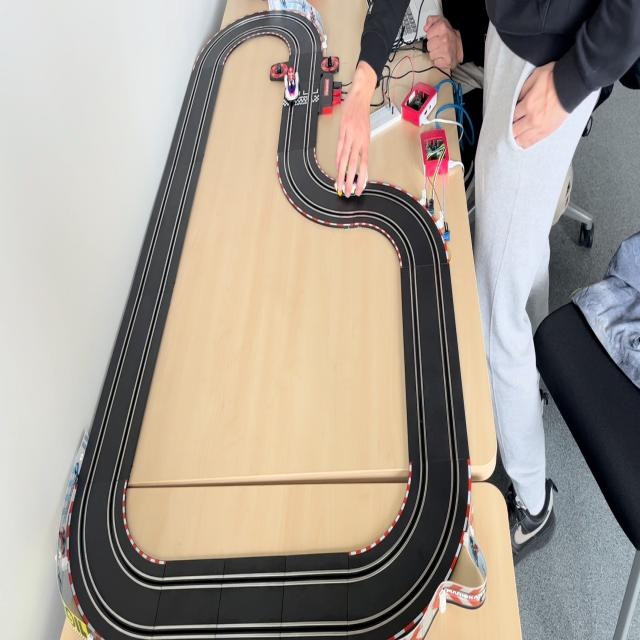mario: (284, 66, 300, 104)
